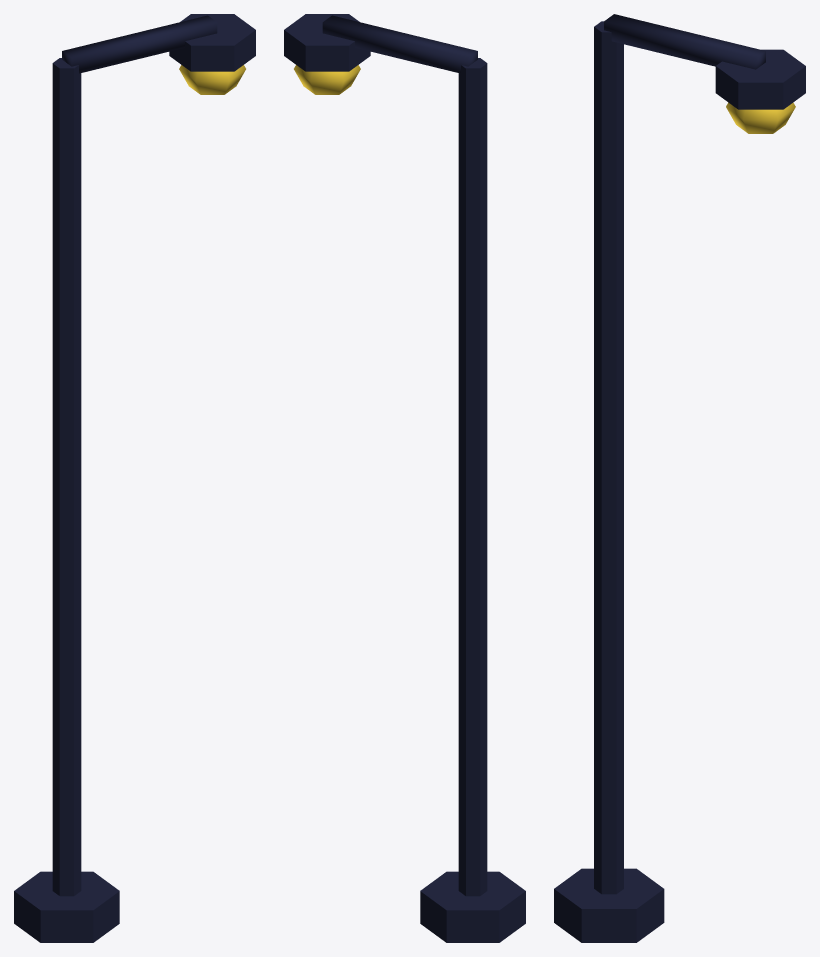
Rendered from lamp_post.glb.
3 views of the same model, side by side, from view 1: azimuth 30°, elevation 25°; view 2: azimuth 150°, elevation 25°; view 3: azimuth 330°, elevation 25° (orthographic). The views are drawn at different scales.
Parts seen in each view (by area): view 1: lamp_post; view 2: lamp_post; view 3: lamp_post.
Boxes of the visible parts, x1,y1,x2,y2 form: lamp_post: (14, 14, 255, 942); lamp_post: (284, 14, 525, 942); lamp_post: (554, 14, 805, 942).
Size of the model in its own units: 1.05 by 3.99 by 0.44.
